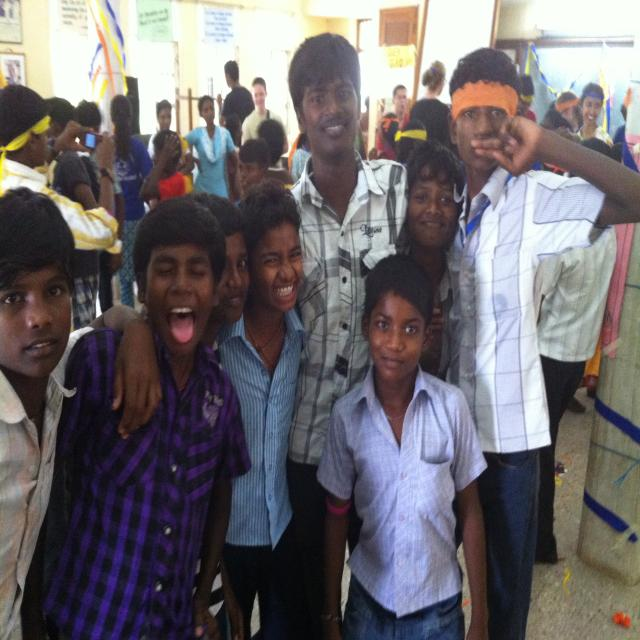body: (423, 43, 640, 640), (16, 190, 253, 640), (280, 30, 412, 640), (0, 183, 164, 640), (314, 250, 495, 640), (214, 176, 309, 640), (532, 135, 619, 569), (138, 191, 252, 430), (38, 70, 122, 338), (0, 82, 120, 255), (391, 137, 466, 385), (517, 71, 636, 169), (109, 93, 154, 310), (224, 115, 313, 186), (182, 95, 239, 202), (358, 65, 413, 171), (408, 61, 460, 156), (147, 98, 196, 195), (241, 76, 289, 168), (137, 129, 187, 211), (216, 59, 256, 149)
